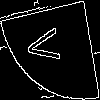V: (25, 25, 69, 66)
